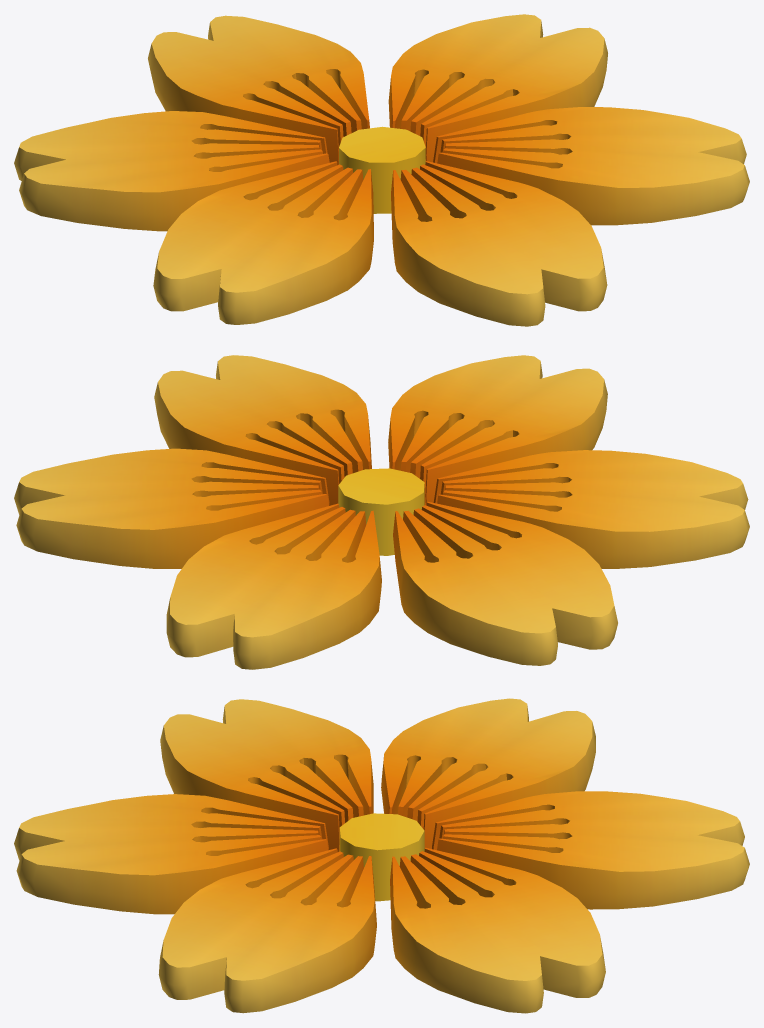
Rendered from yellow.fbx.
3 views of the same model, one above another, from view 1: azimuth 30°, elevation 25°; view 2: azimuth 150°, elevation 25°; view 3: azimuth 270°, elevation 25° (orthographic).
Parts seen in each view (by area): view 1: Cylinder004.013; view 2: Cylinder004.013; view 3: Cylinder004.013.
Part boxes in pixels (x1,y1,x2,y2): Cylinder004.013: (14, 14, 749, 326); Cylinder004.013: (14, 355, 749, 669); Cylinder004.013: (14, 698, 749, 1013).
Size of the model in its own units: 29.68 by 2.47 by 32.19.
